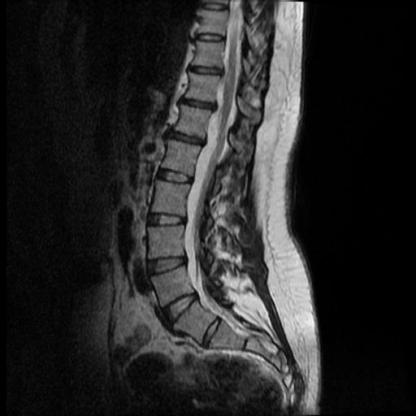Annular Disc Relaxationrotation: (164, 295, 201, 317), (203, 315, 221, 347)
Degenerative Disc Diseaserotation: (164, 295, 201, 317), (158, 169, 194, 187), (202, 315, 221, 347)
Disc Bulgerotation: (158, 169, 194, 187)
